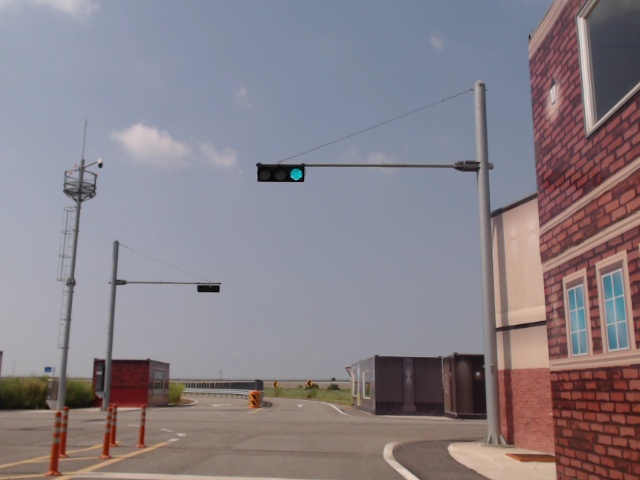green_3: (257, 164, 305, 182)
